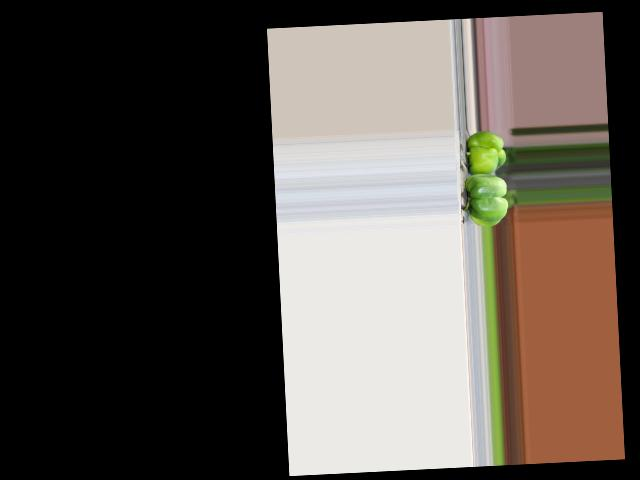bell_pepper: (462, 128, 508, 176)
